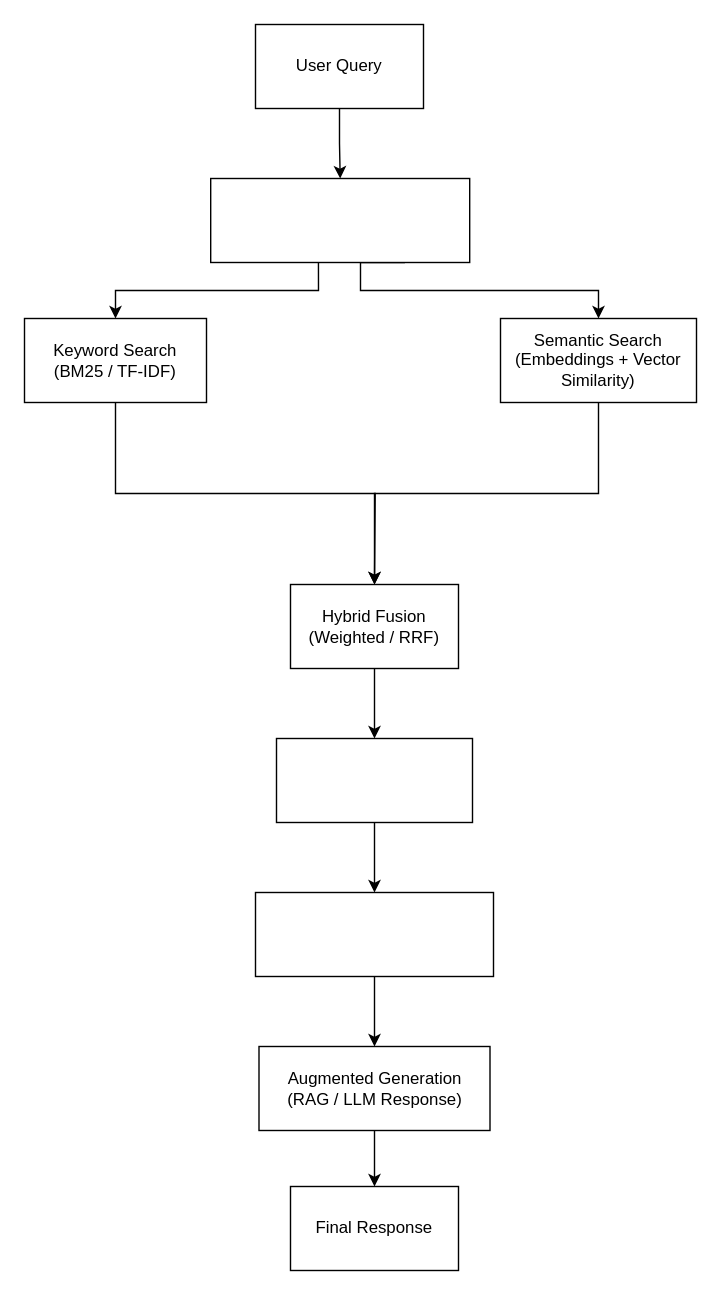
Some shapes in this 721 by 1295 pixel diagram are drawn without their labels. The centre of each missing label's shape, as x and y in pixels:
"Evaluation Layer (Precision / Recall / LLM as Judge)" goes at (373,933).
"LLM / Cross Encorder Reranking" goes at (373,779).
"Query Enhancement (LLM Expansion / Cleanup)" goes at (339,219).
